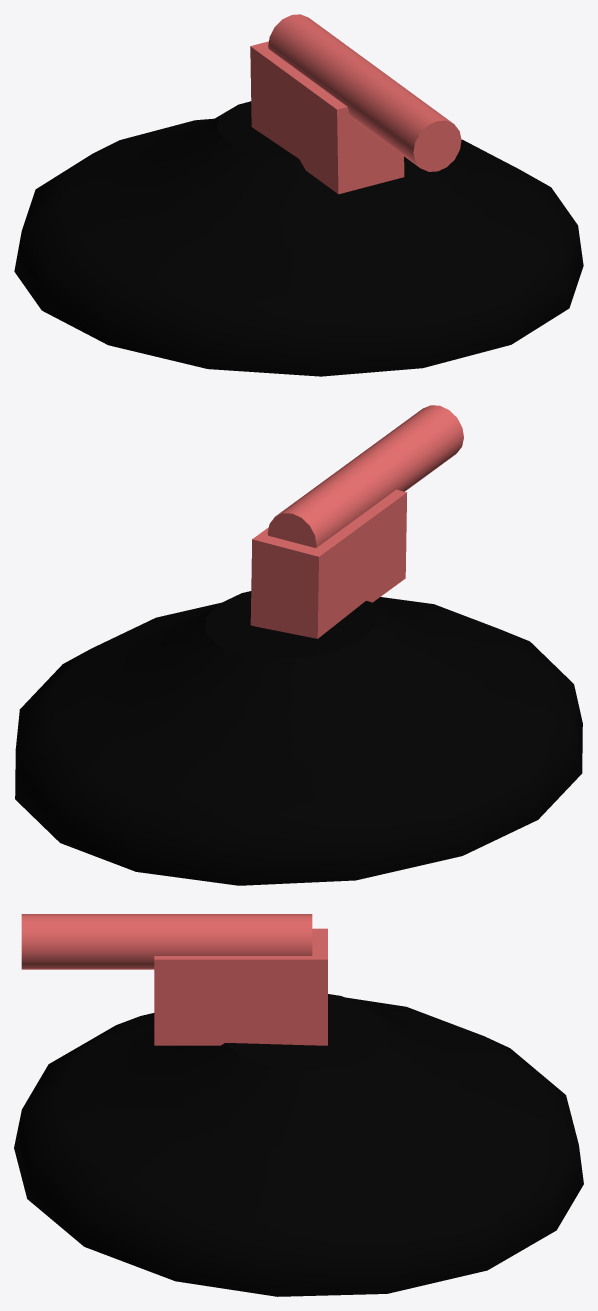
File: Microwave1.glb
The picture shows the model from 3 angles, top to bottom: view 1: azimuth 30°, elevation 25°; view 2: azimuth 150°, elevation 25°; view 3: azimuth 270°, elevation 25°; orthographic projection.
Size of the model in its own units: 0.4092 by 0.2085 by 0.4093.
